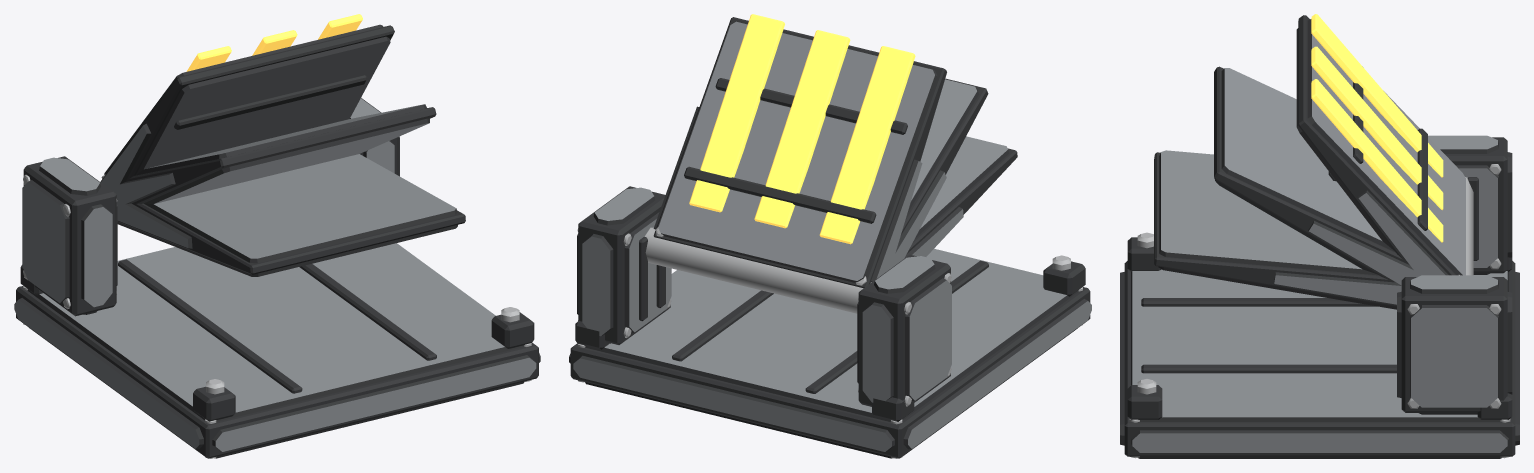
Rendered from R4X_RampDeployer.fbx.
3 views of the same model, side by side, from view 1: azimuth 30°, elevation 25°; view 2: azimuth 150°, elevation 25°; view 3: azimuth 270°, elevation 25° (orthographic). The views are drawn at different scales.
Visible parts, largest first — view 1: R4X_RampDeployer_Body; view 2: R4X_RampDeployer_Body; view 3: R4X_RampDeployer_Body.
Part boxes in pixels (box(x1,y1,x2,y2)): R4X_RampDeployer_Body: box(14, 14, 540, 458); R4X_RampDeployer_Body: box(569, 14, 1091, 458); R4X_RampDeployer_Body: box(1120, 14, 1519, 458).
Bounding box in the file's own units: 0.52 × 0.4673 × 0.52.
